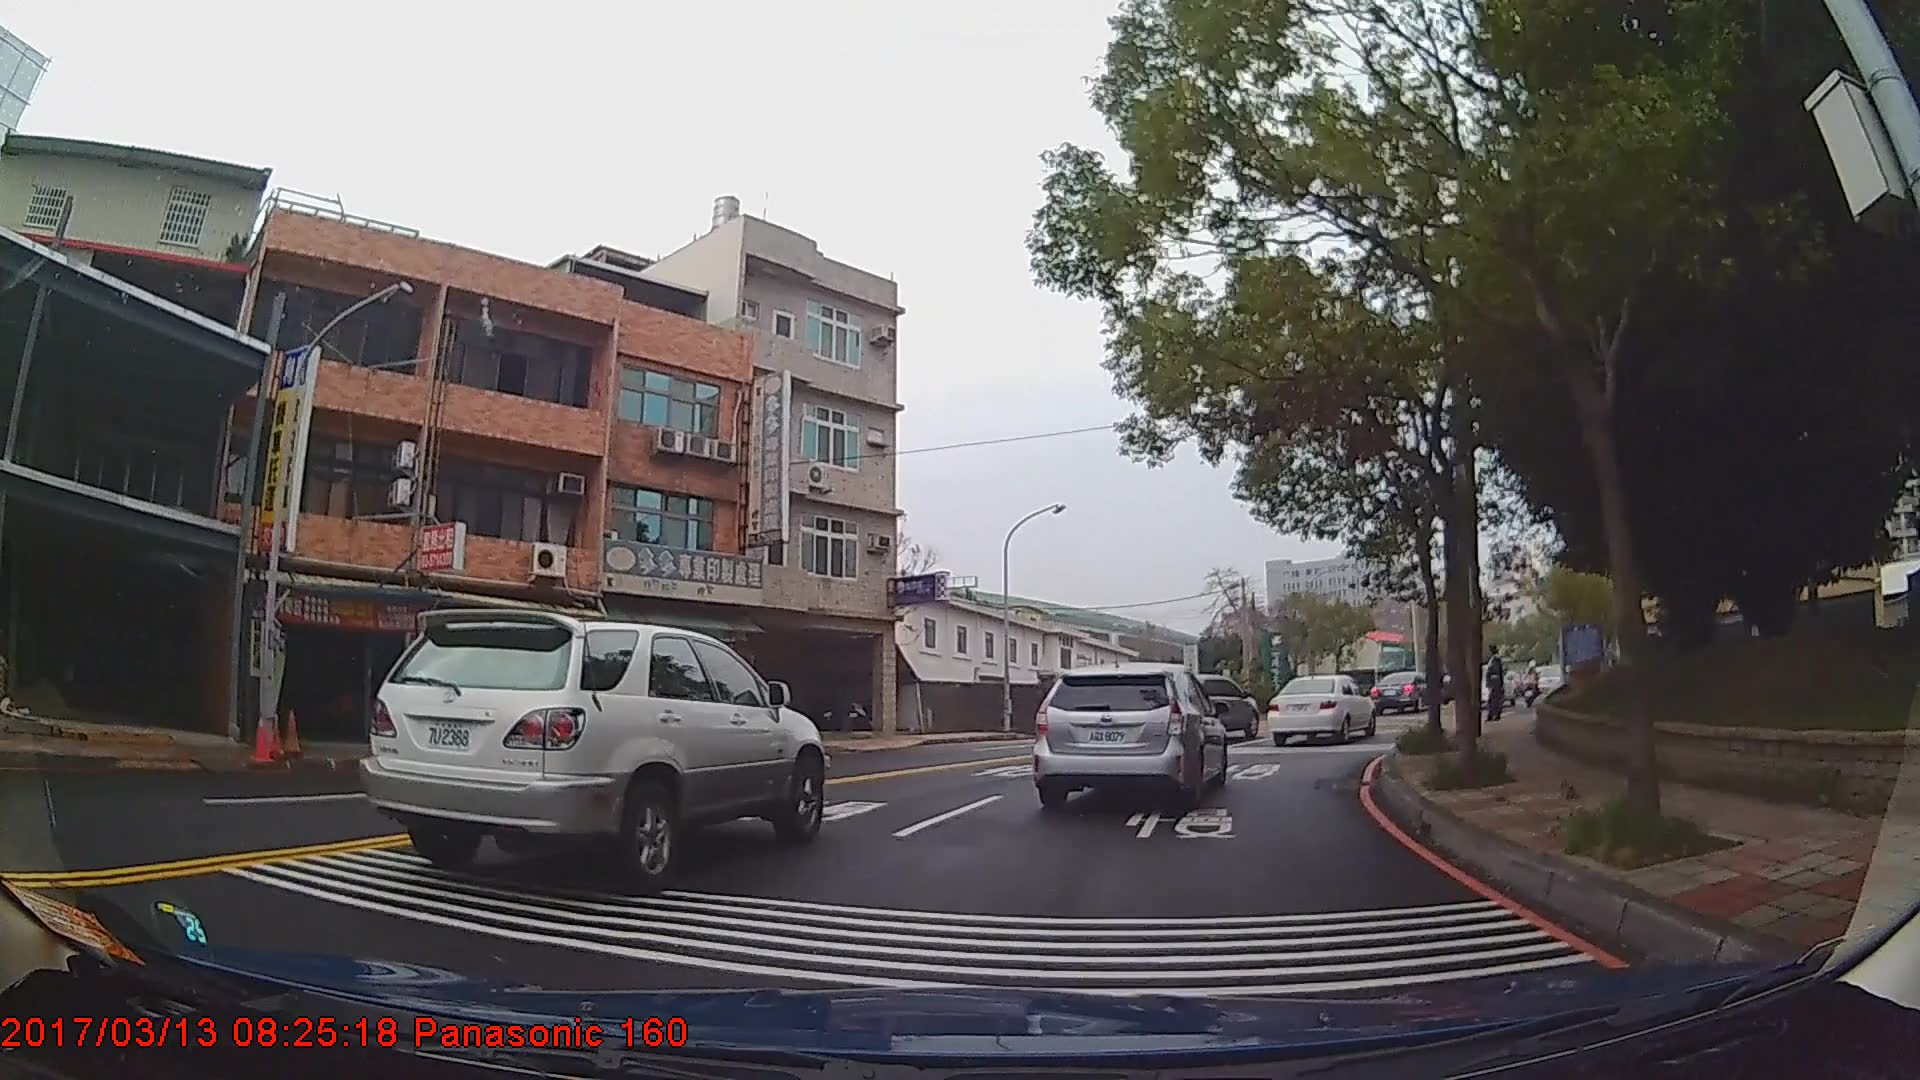vehicle: (357, 607, 825, 895), (1029, 659, 1225, 812), (1261, 673, 1374, 744), (1163, 673, 1259, 742), (1367, 667, 1436, 715)
